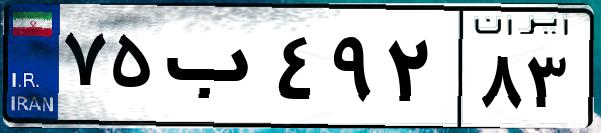2: (385, 28, 445, 110)
3: (525, 38, 570, 115)
4: (270, 28, 330, 110)
5: (110, 28, 158, 98)
7: (57, 26, 110, 100)
8: (475, 38, 525, 113)
9: (330, 28, 385, 110)
ب: (158, 20, 270, 120)
